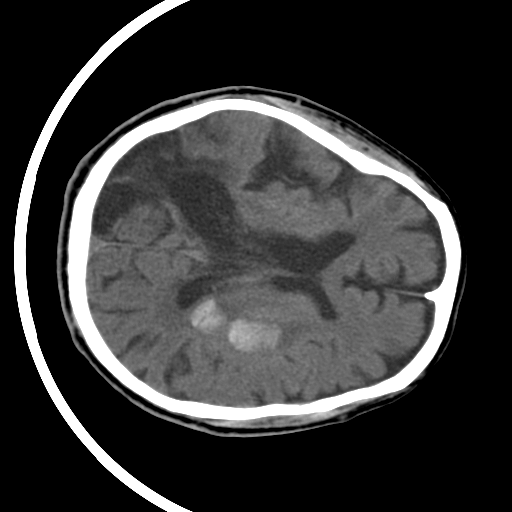a: (174, 283, 318, 371)
